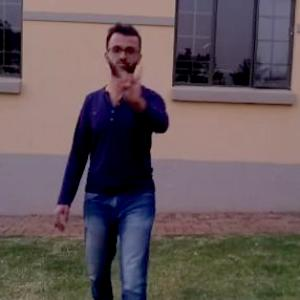takeoff-hand: (115, 60, 152, 107)
